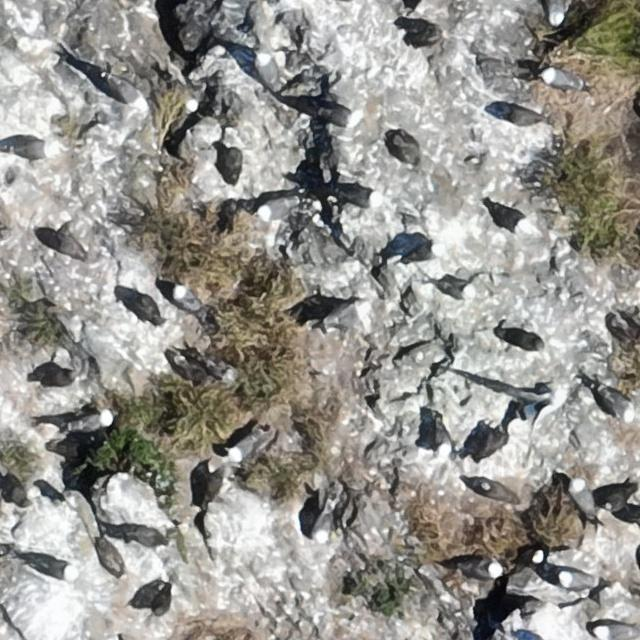umineko: (104, 71, 150, 114), (320, 300, 374, 333), (167, 76, 203, 115), (492, 208, 526, 232), (33, 560, 74, 579), (7, 138, 48, 157), (462, 561, 502, 580), (320, 108, 358, 127), (75, 412, 111, 431), (436, 281, 472, 300), (230, 434, 256, 460), (258, 198, 290, 219), (499, 110, 538, 127), (542, 68, 575, 88), (572, 482, 592, 513), (174, 286, 198, 311), (345, 189, 380, 206), (403, 243, 438, 260), (313, 511, 331, 543), (258, 54, 276, 84), (560, 572, 589, 590), (597, 624, 631, 639), (207, 361, 233, 380), (436, 426, 452, 455), (547, 2, 566, 26), (530, 549, 545, 565)
